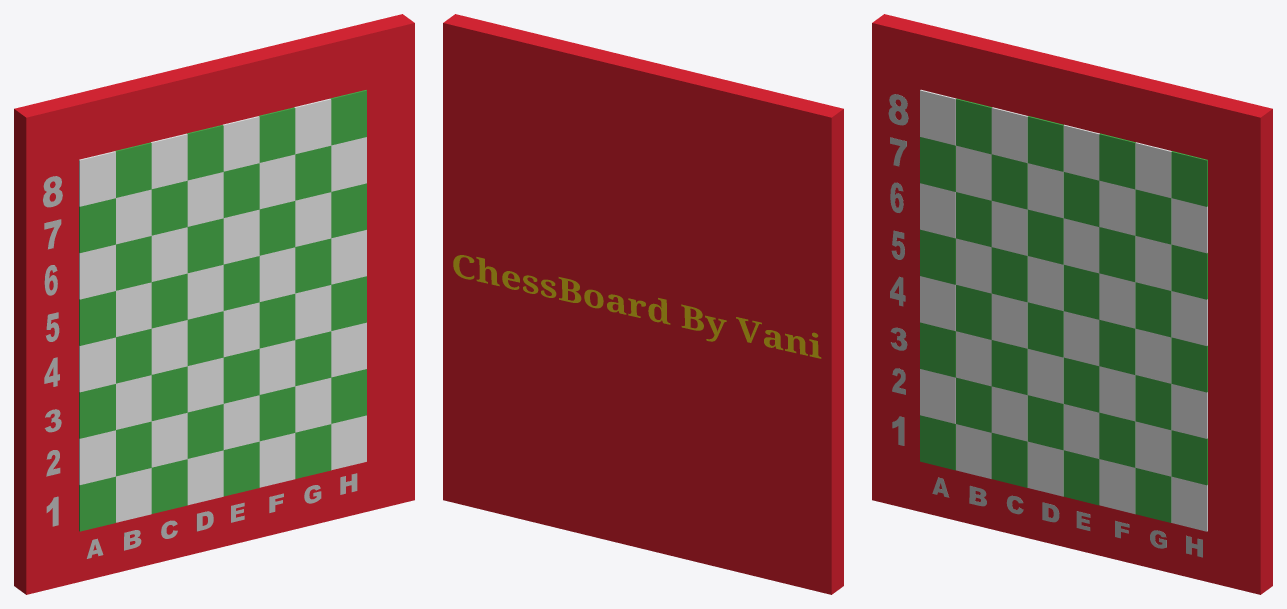
Rendered from chessboardModel.obj.
The picture shows the model from 3 angles, left to right: view 1: azimuth 30°, elevation 25°; view 2: azimuth 150°, elevation 25°; view 3: azimuth 330°, elevation 25°; orthographic projection.
Parts seen in each view (by area): view 1: group_0_15277357, group_0_16448250, group_0_4634441, group_0_14541540; view 2: group_0_15277357, group_0_16768282; view 3: group_0_15277357, group_0_4634441, group_0_16448250, group_0_14541540.
Boxes of the visible parts, x1,y1,x2,y2 form: group_0_15277357: (14, 14, 414, 594); group_0_16448250: (79, 98, 366, 522); group_0_4634441: (79, 90, 366, 531); group_0_14541540: (42, 176, 357, 558); group_0_15277357: (443, 14, 843, 594); group_0_16768282: (453, 255, 821, 358); group_0_15277357: (872, 14, 1272, 594); group_0_4634441: (920, 98, 1207, 522); group_0_16448250: (920, 89, 1207, 531); group_0_14541540: (888, 94, 1202, 557).
Bounding box in the file's own units: 23 × 27 × 1.56.
